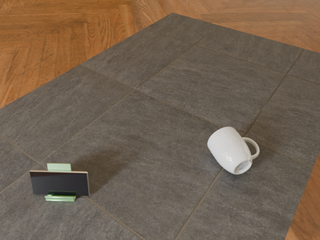cup: (208, 127, 259, 174)
phone: (30, 170, 90, 196)
